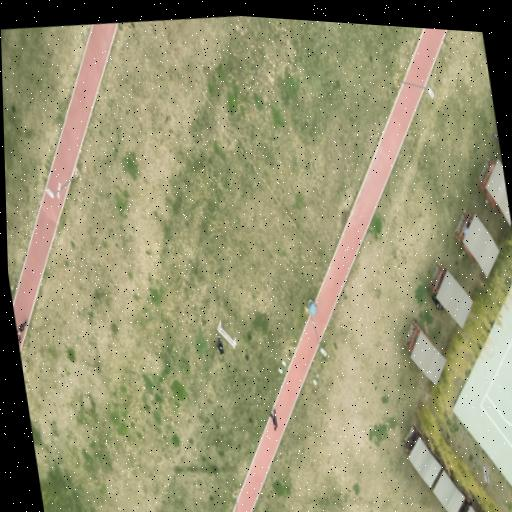person: (431, 293, 444, 313), (17, 321, 27, 334), (271, 408, 277, 429), (217, 335, 223, 354), (18, 335, 20, 342)
